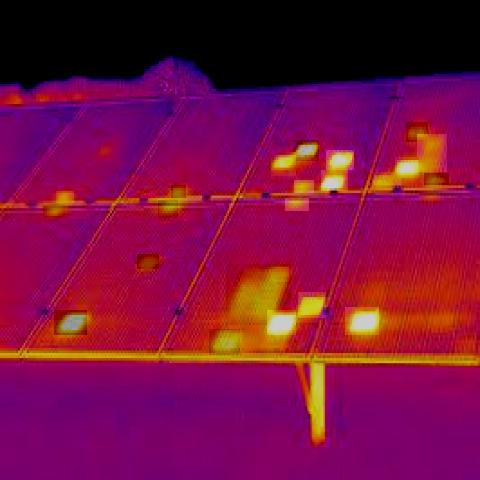fault: (226, 264, 291, 325), (417, 134, 447, 172), (345, 308, 379, 336), (54, 310, 87, 335), (209, 329, 240, 355), (298, 292, 326, 318), (267, 310, 296, 335), (271, 152, 296, 176), (321, 170, 348, 191), (326, 150, 354, 170), (293, 140, 319, 161), (372, 172, 402, 190), (395, 157, 419, 178), (406, 122, 428, 142), (158, 200, 178, 218), (137, 254, 159, 269), (285, 198, 309, 211), (43, 204, 65, 218), (424, 173, 449, 185), (294, 180, 314, 193), (56, 191, 74, 203), (171, 185, 186, 198)
